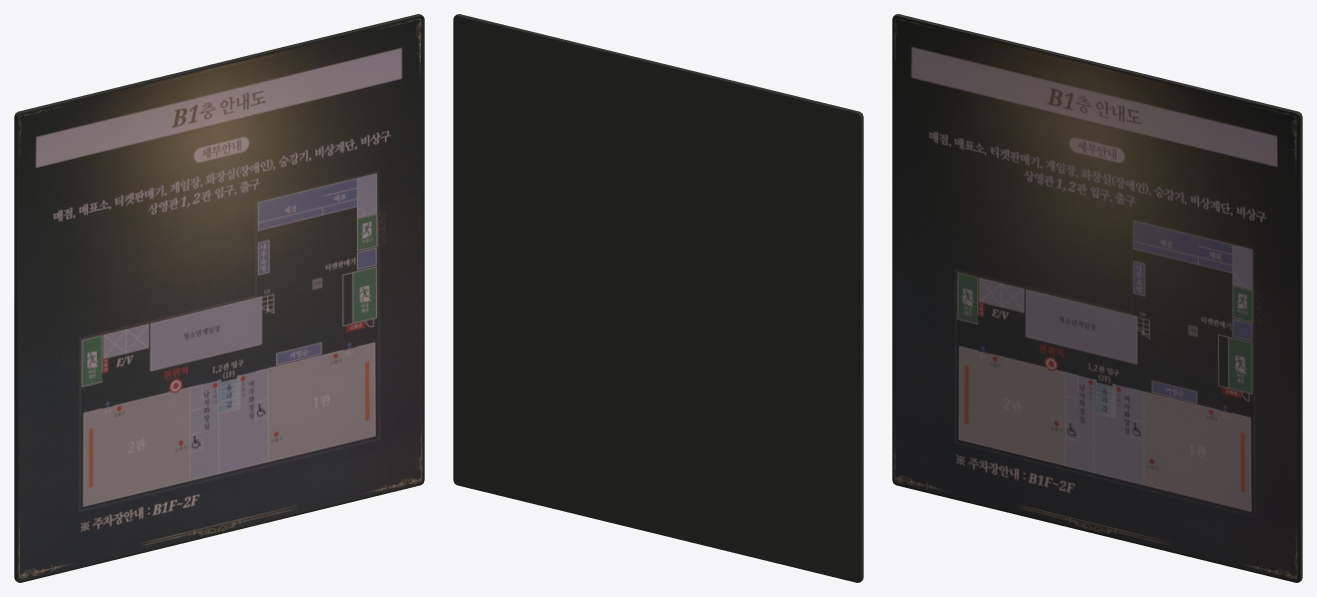
File: LC_3113_Guide_Map_LOD2.fbx
3 views of the same model, side by side, from view 1: azimuth 30°, elevation 25°; view 2: azimuth 150°, elevation 25°; view 3: azimuth 330°, elevation 25° (orthographic).
Parts seen in each view (by area): view 1: LC_3113_GM_LOD2; view 2: LC_3113_GM_LOD2; view 3: LC_3113_GM_LOD2.
Boxes of the visible parts, x1,y1,x2,y2 form: LC_3113_GM_LOD2: [14, 14, 424, 582]; LC_3113_GM_LOD2: [453, 14, 863, 582]; LC_3113_GM_LOD2: [892, 14, 1302, 582].
Size of the model in its own units: 103 by 114 by 1.07.
Materials: 1 (1 with a texture image).
